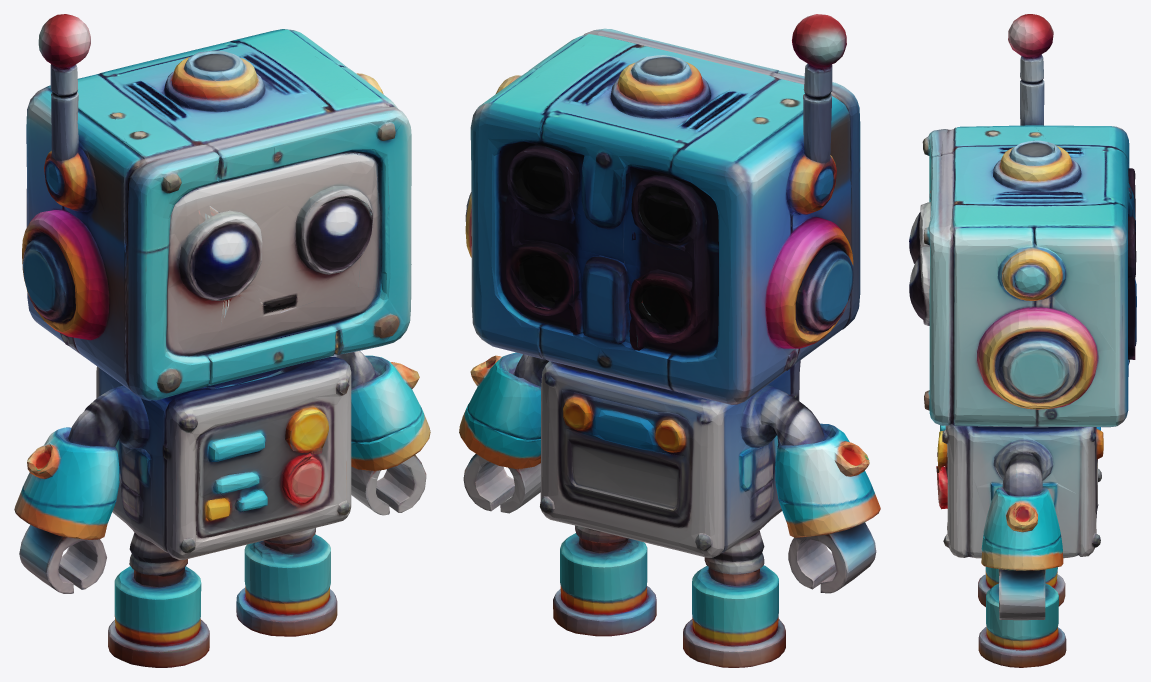
File: typical_humanoid_block_robot_demo_trellis.glb
The picture shows the model from 3 angles, left to right: view 1: azimuth 30°, elevation 25°; view 2: azimuth 150°, elevation 25°; view 3: azimuth 270°, elevation 25°; orthographic projection. The views are drawn at different scales.
Visible parts, largest first — view 1: world; view 2: world; view 3: world.
Boxes of the visible parts, x1,y1,x2,y2 form: world: (14, 14, 430, 667); world: (459, 14, 880, 667); world: (909, 14, 1136, 667).
Size of the model in its own units: 0.6524 by 1 by 0.3795.
1 material, 1 textured.
